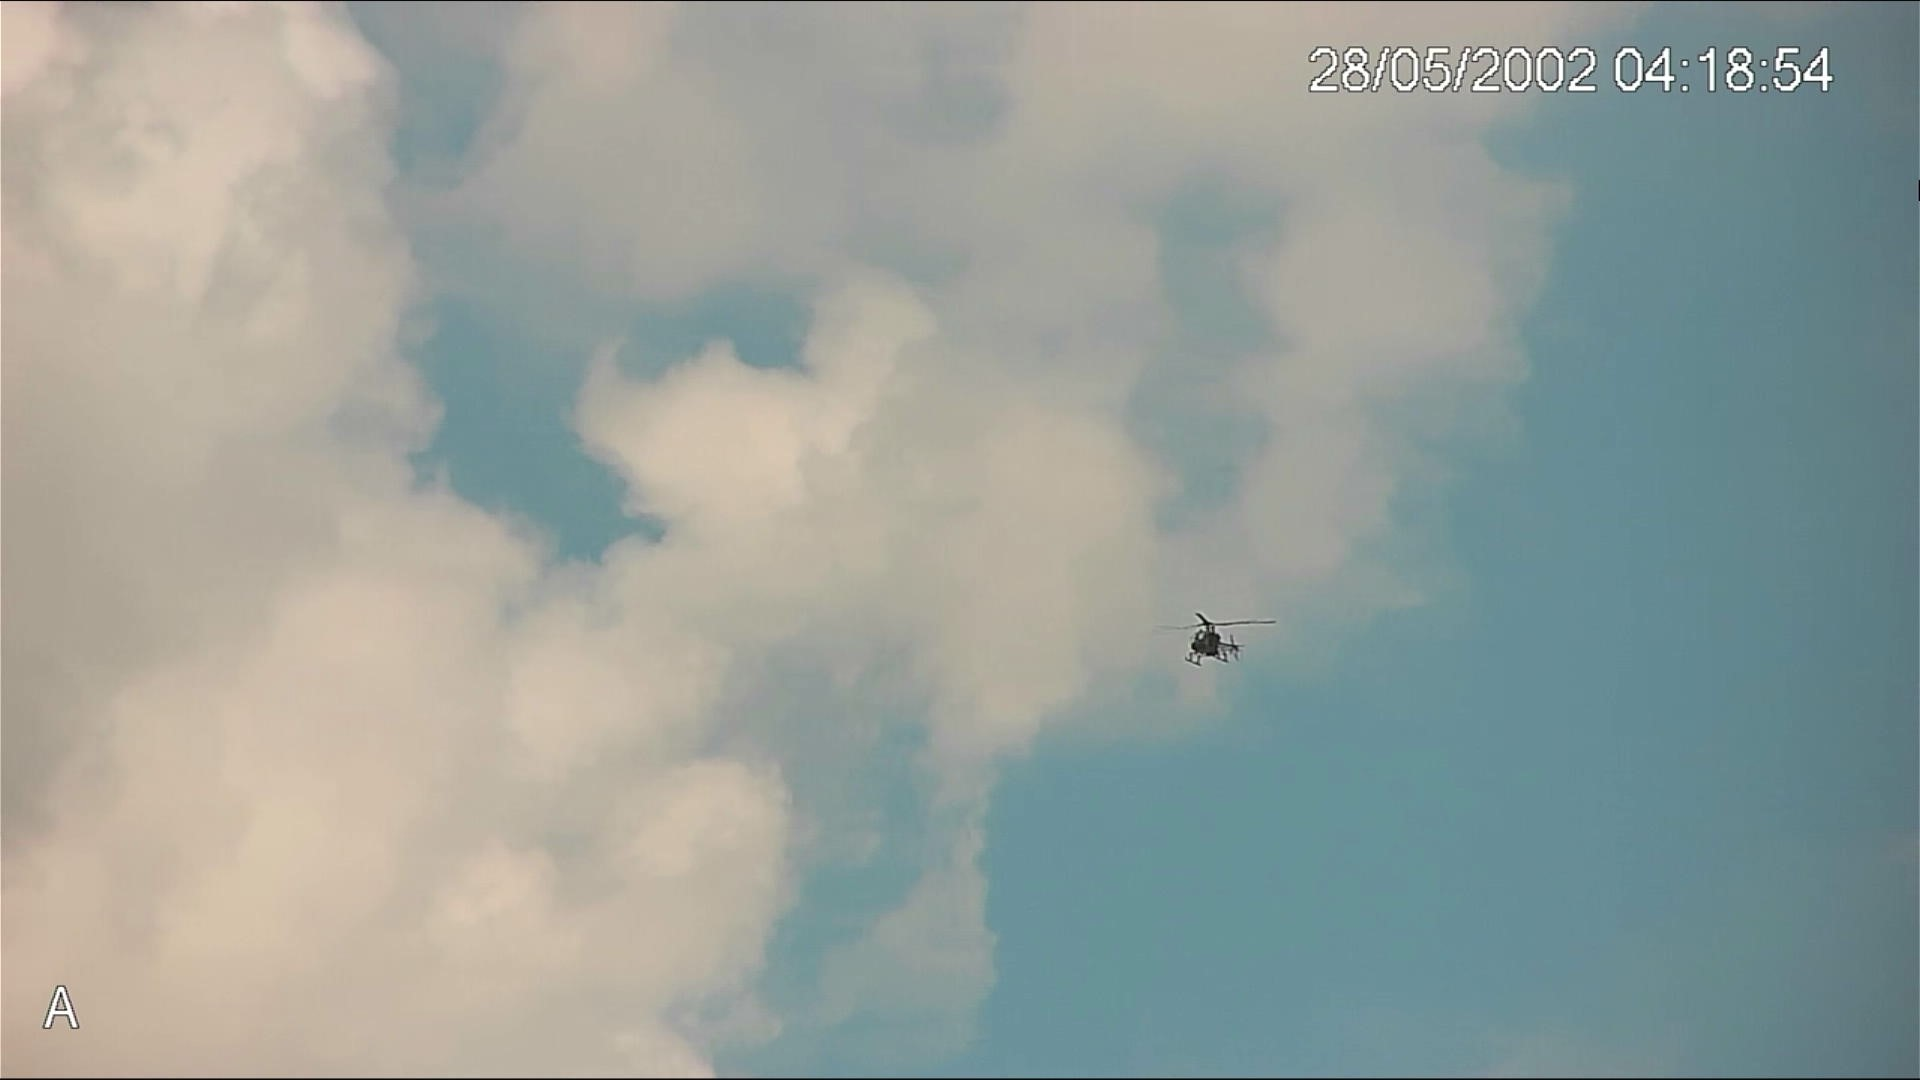SU_30: (1178, 608, 1246, 673)
